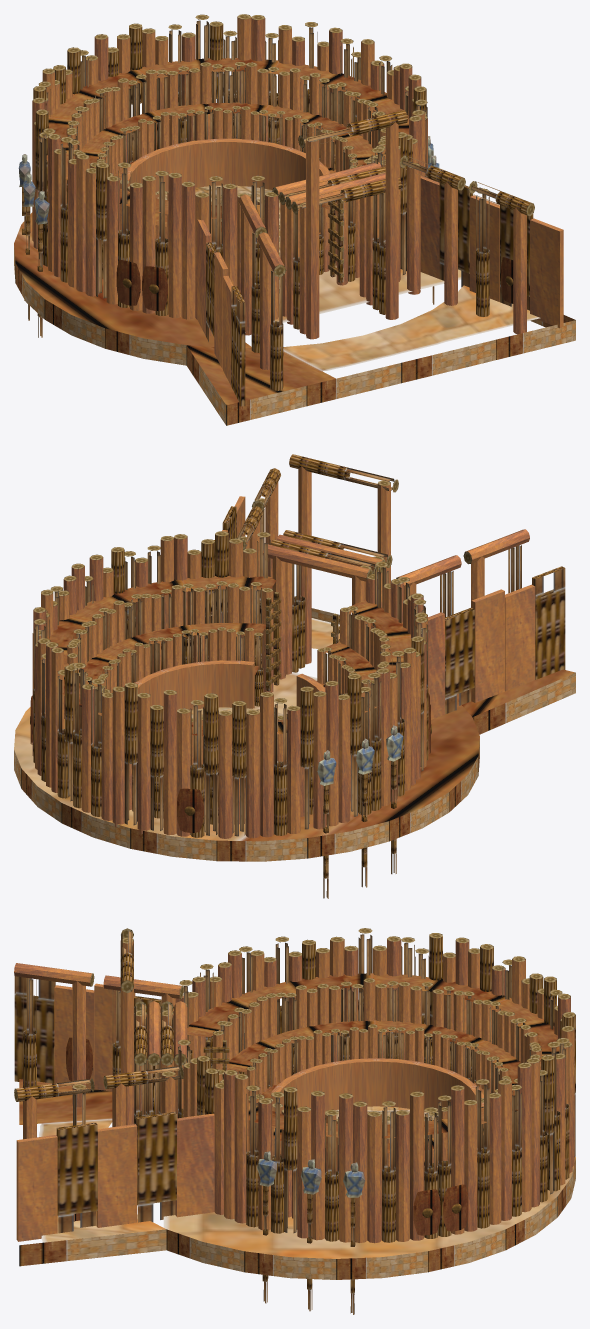
File: ritual_assembly.dae
3 views of the same model, one above another, from view 1: azimuth 30°, elevation 25°; view 2: azimuth 150°, elevation 25°; view 3: azimuth 270°, elevation 25° (orthographic). The views are drawn at different scales.
Parts seen in each view (by area): view 1: ritual_assembly; view 2: ritual_assembly; view 3: ritual_assembly.
Boxes of the visible parts, x1=… form: ritual_assembly: x1=14, y1=14, x2=575, y2=425; ritual_assembly: x1=14, y1=454, x2=575, y2=898; ritual_assembly: x1=14, y1=928, x2=575, y2=1314.
Size of the model in its own units: 24.11 by 28.25 by 15.18.
